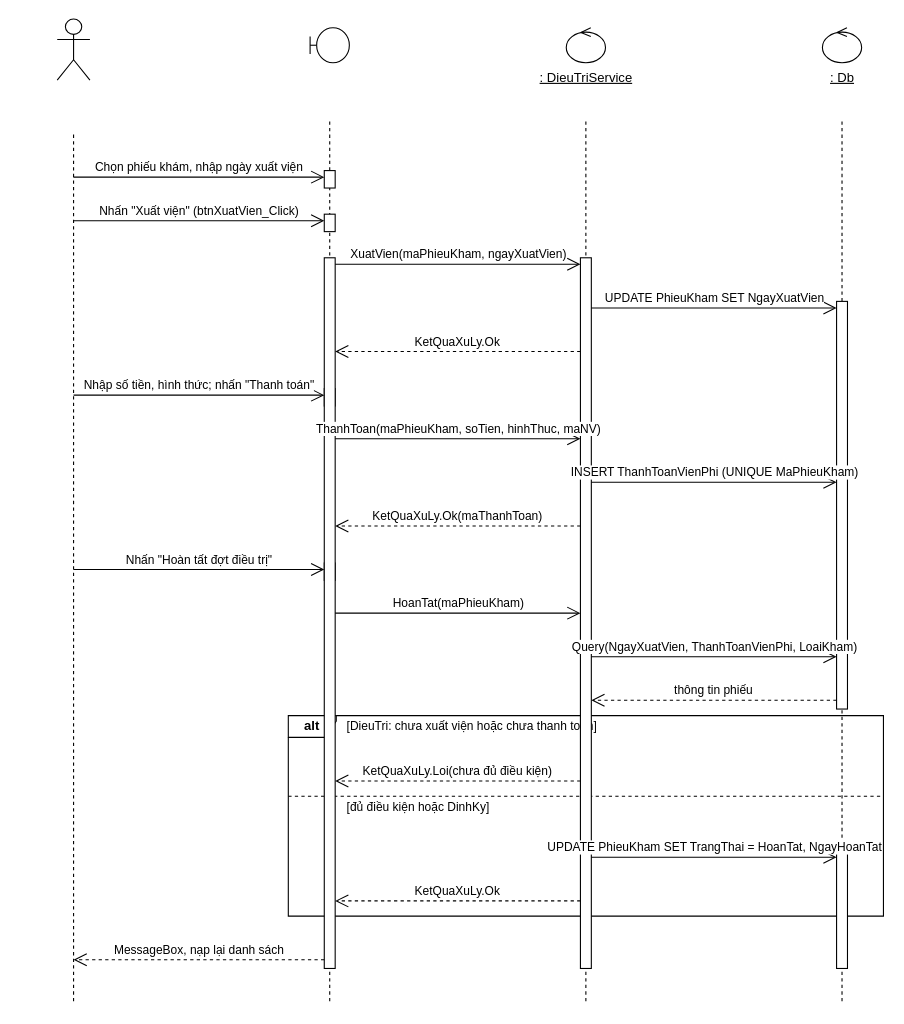
The diagram is 904 pixels wide and 1024 high, and some of its shapes have lost their labels. The shapes that lost their labels are listed below. From the top down, each one's centre as x and y in pixels, then its label:
At point (73, 49): ": Thu ngân / CSKH".
At point (329, 45): ": FrmHoanTat".
